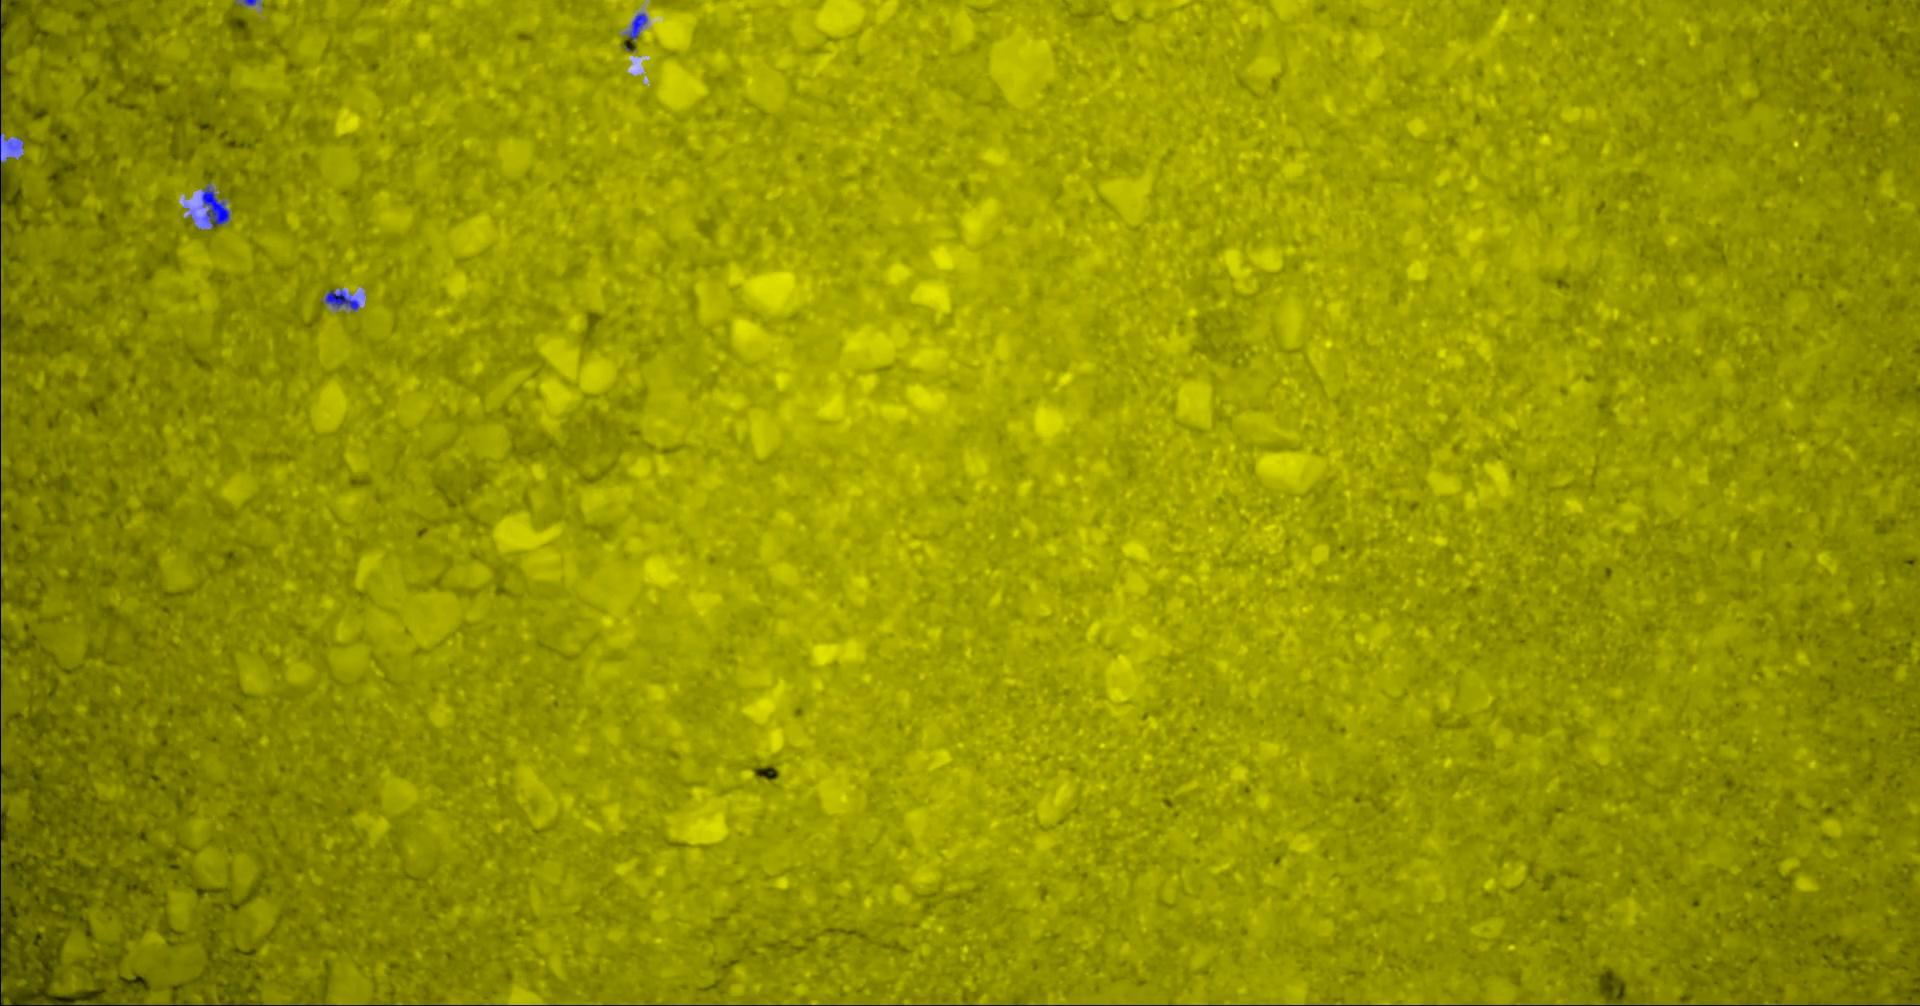ant: (201, 185, 229, 226), (324, 290, 358, 310), (629, 13, 646, 39), (5, 136, 23, 150), (0, 29, 1, 124), (0, 847, 1, 911)
